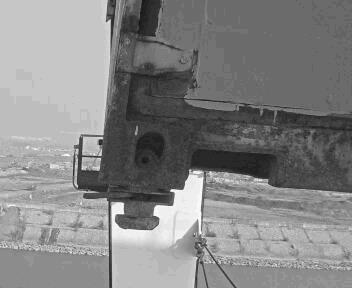twist_lock_1: (99, 186, 179, 233)
